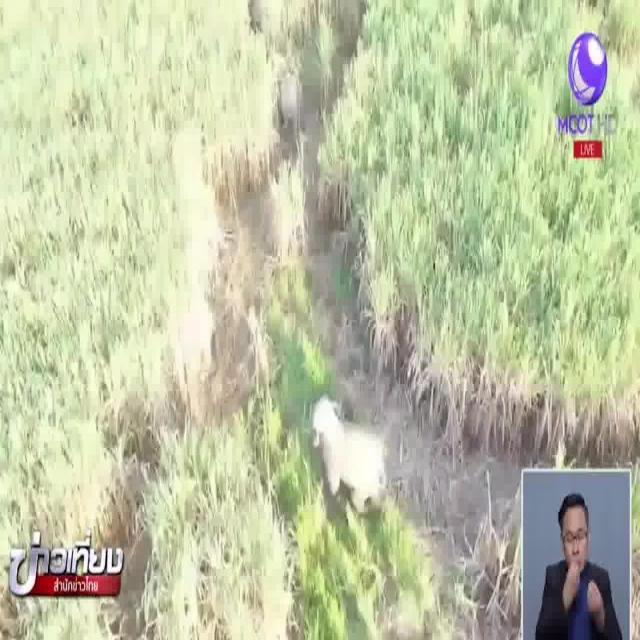Elephant: (309, 404, 382, 508)
